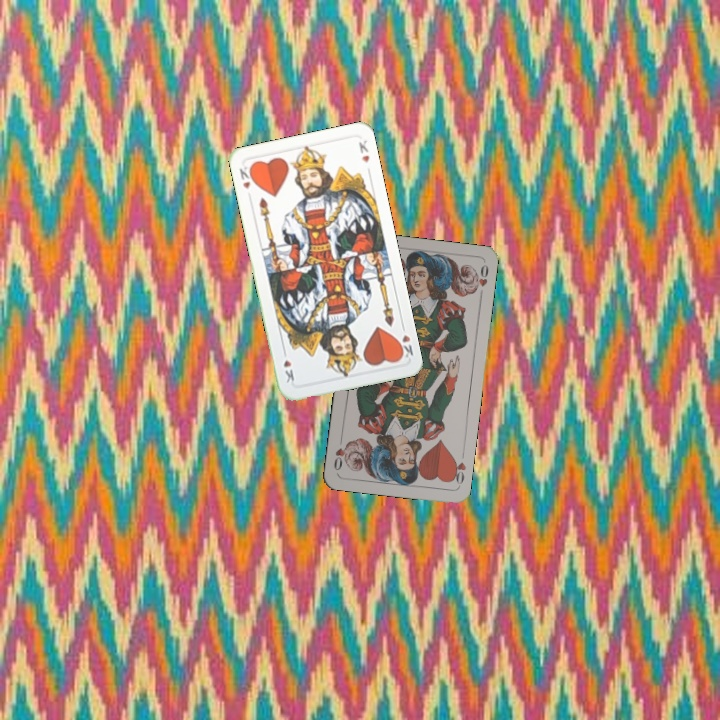HK: (393, 320, 416, 362), (235, 162, 257, 192)
HO: (447, 454, 469, 488)
